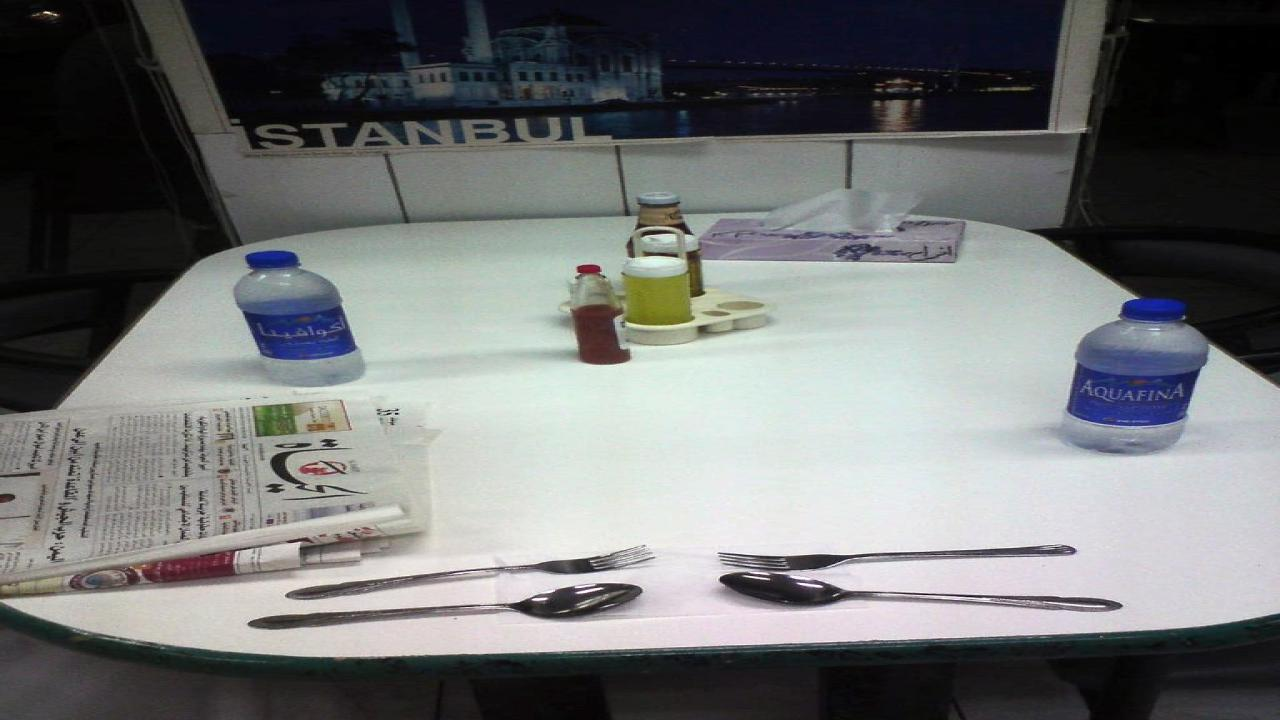fork: (288, 540, 662, 599), (712, 544, 1086, 574)
